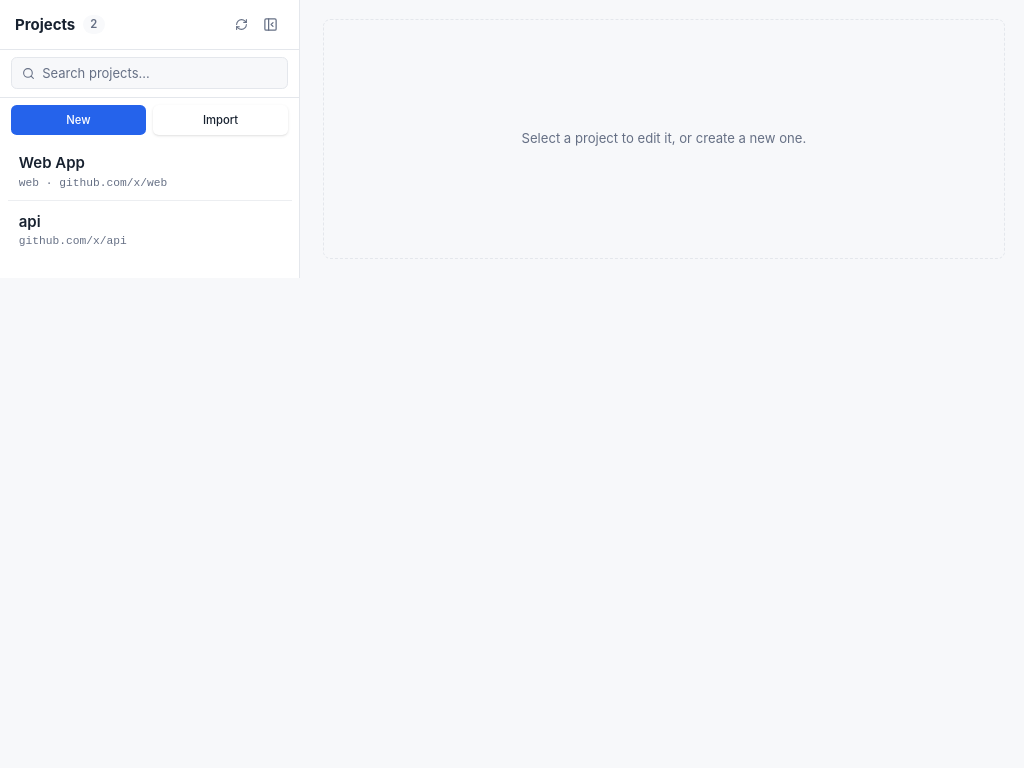
Test: ProjectsPage › warns that secrets must be re-entered when renaming a node with masked params
Click the button "Web App web · github.com/x/web" at (52, 163), box left=8, top=143, right=292, bottom=201
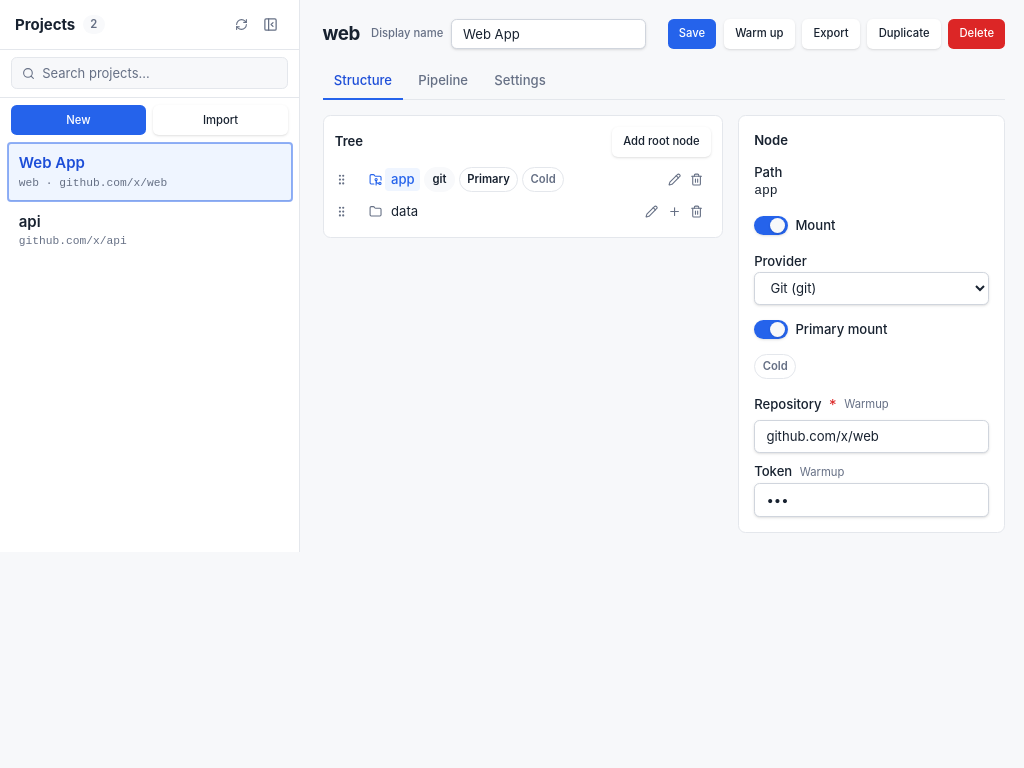
Now the button "app" is shown, box left=385, top=168, right=420, bottom=190
Click the button named "Rename app" at (674, 179), box left=664, top=169, right=685, bottom=190
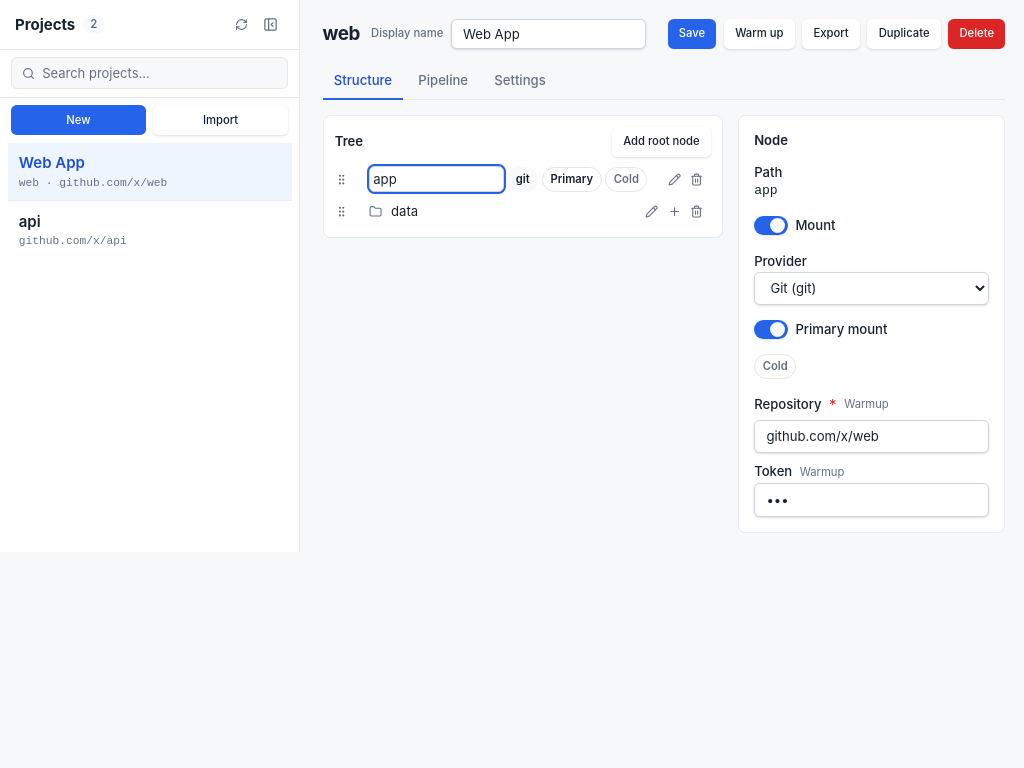
Replace the text in the field showing "app" with "frontend" at (436, 179), box left=368, top=166, right=504, bottom=192
Then press Enter
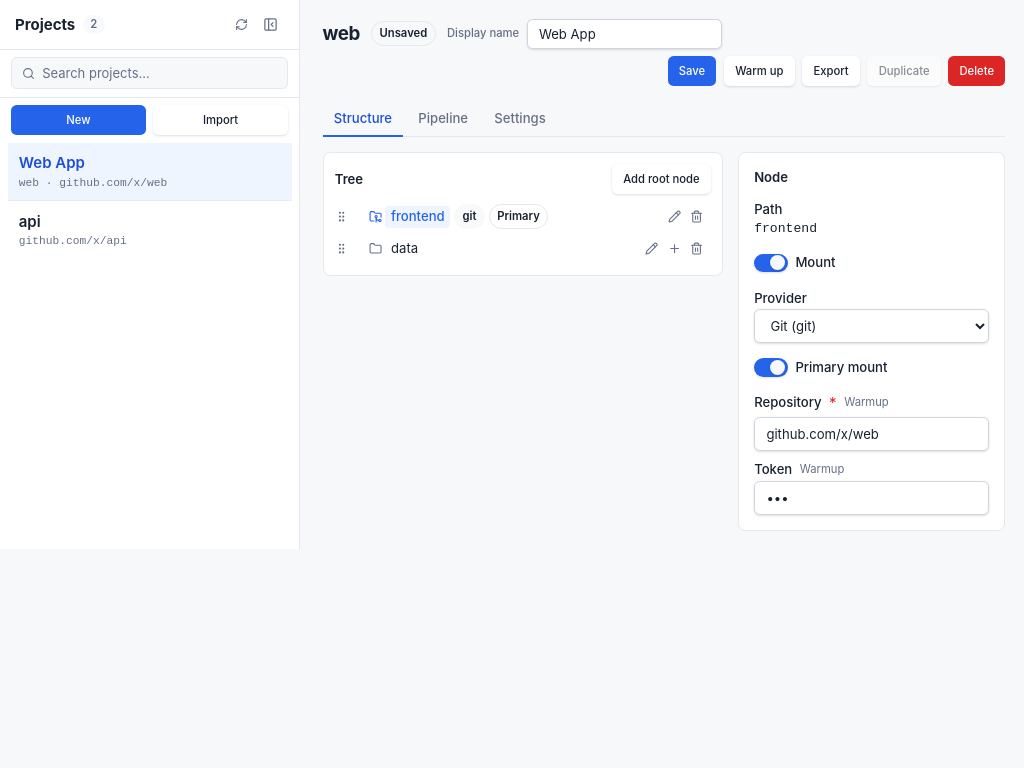
Now the button "frontend" is shown, box left=385, top=206, right=450, bottom=228
